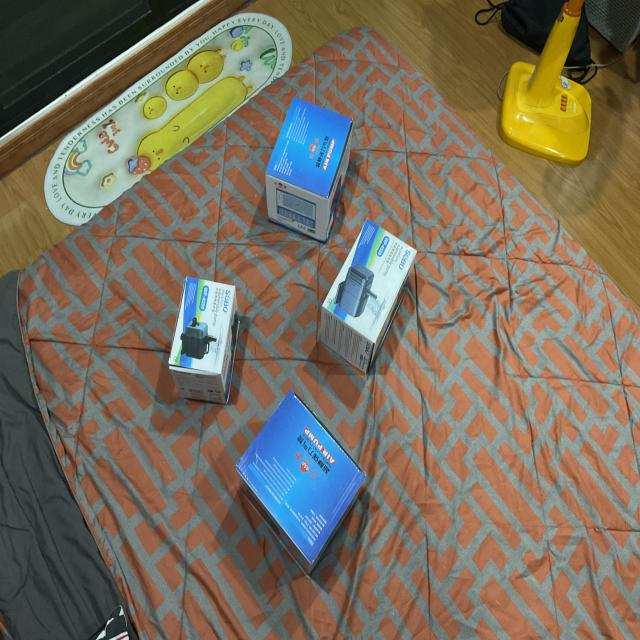SOBO_WP_4200: (304, 216, 424, 386), (164, 268, 246, 415)
YAMANO_LPP_20: (215, 384, 389, 587), (249, 94, 373, 253)
